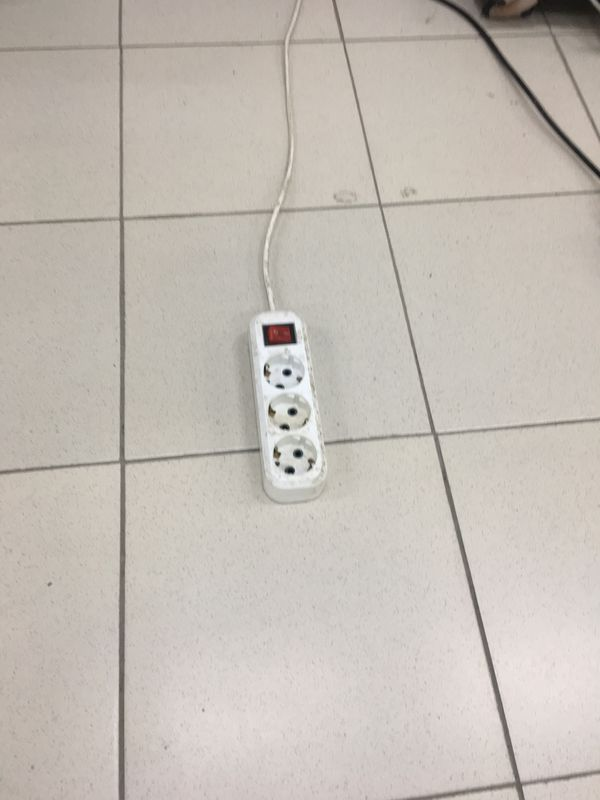socket: (242, 305, 338, 509)
